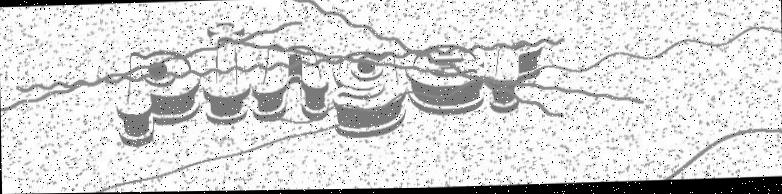e: (404, 43, 486, 119)
g: (331, 45, 408, 140)
i: (195, 19, 250, 126)
n: (249, 36, 331, 127)
p: (105, 45, 204, 150)
r: (488, 38, 544, 117)
